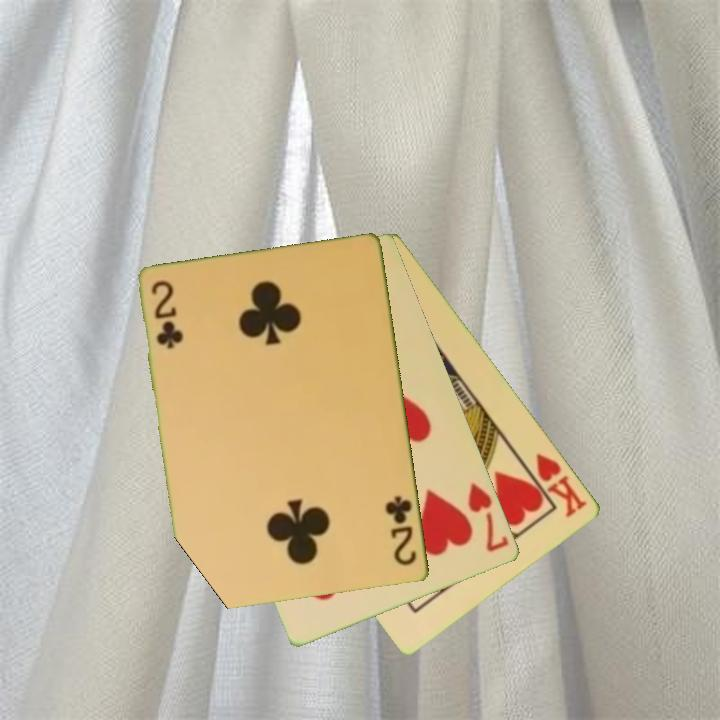2c: (382, 492, 420, 569), (148, 277, 184, 352)
7h: (464, 479, 512, 555)
Kh: (519, 449, 590, 521)
